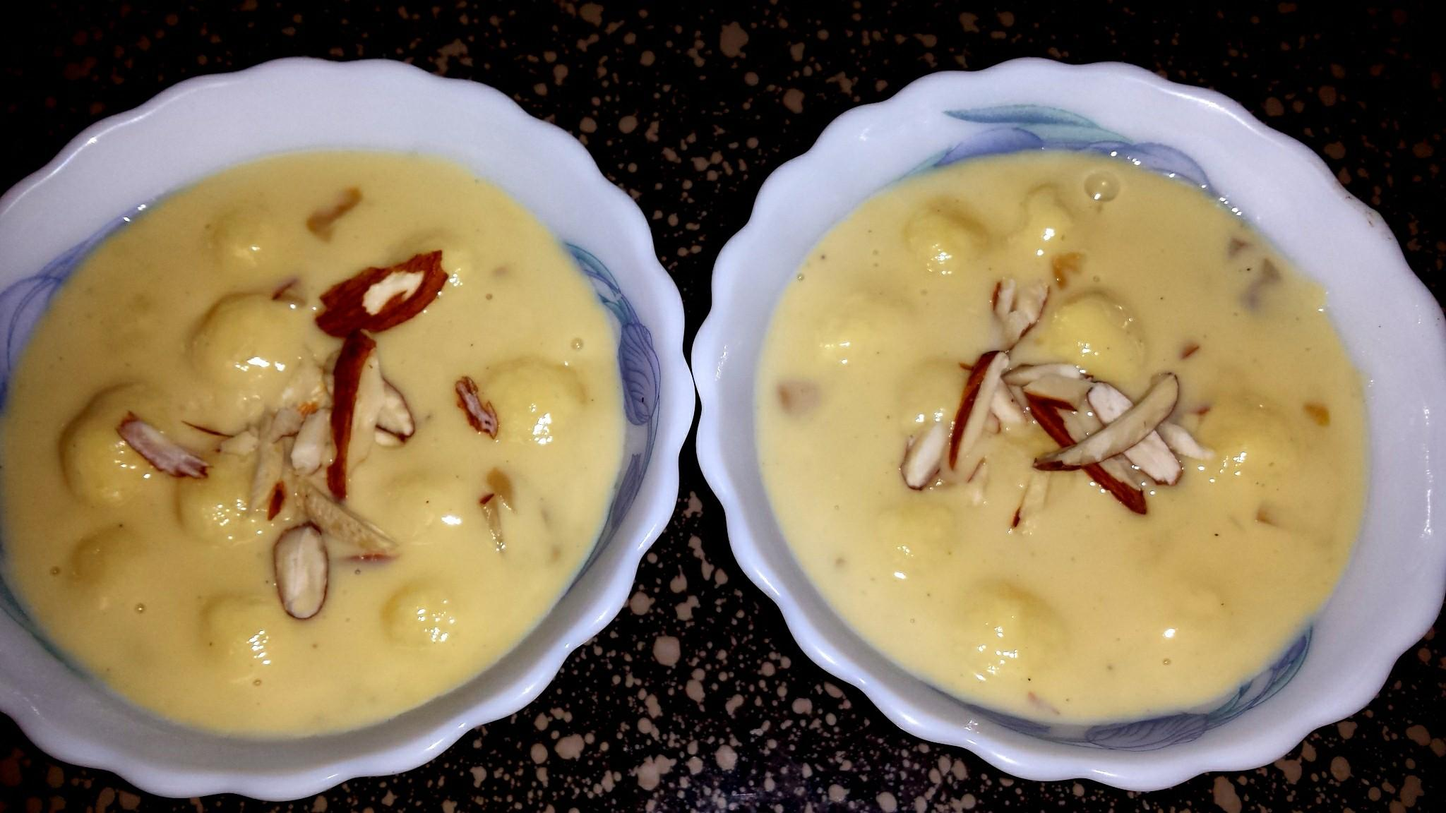RasMalai: (0, 149, 629, 735), (749, 138, 1374, 722)
